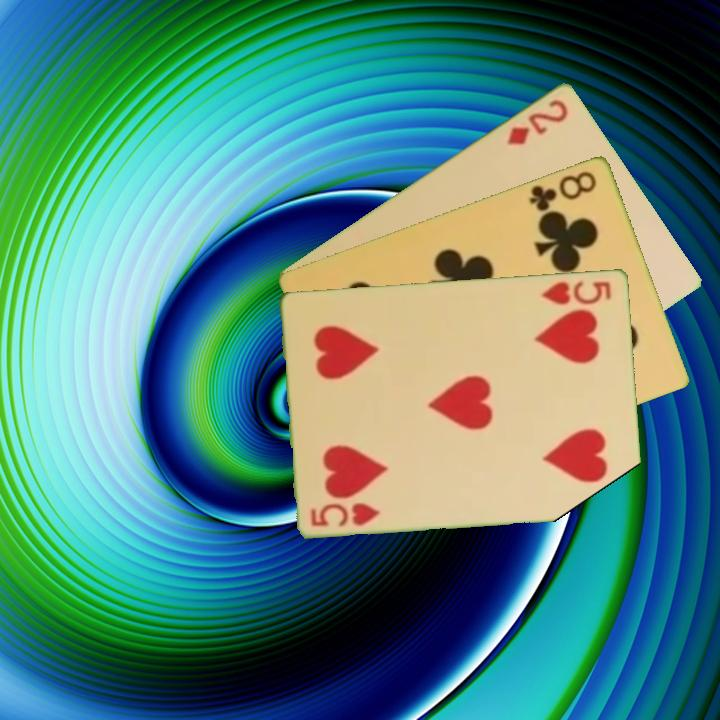2d: (503, 95, 571, 148)
5h: (307, 498, 384, 529), (538, 277, 614, 307)
8c: (526, 167, 600, 214)
